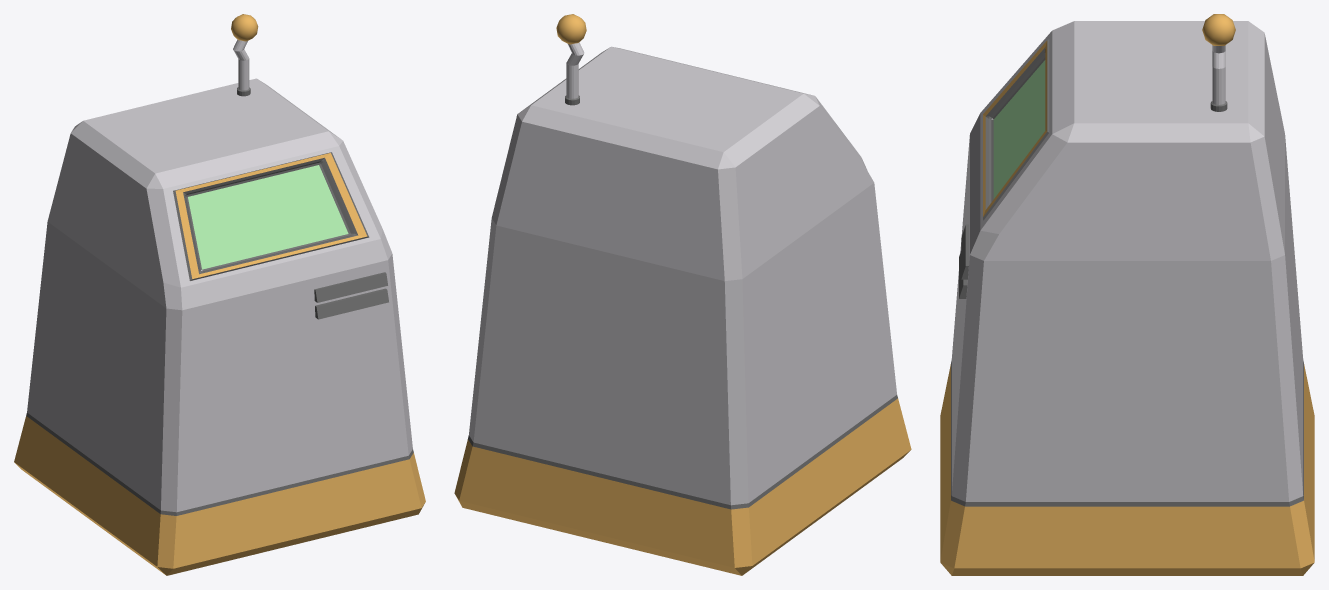
The model's file is botKitty.fbx.
3 views of the same model, side by side, from view 1: azimuth 30°, elevation 25°; view 2: azimuth 150°, elevation 25°; view 3: azimuth 270°, elevation 25° (orthographic). The views are drawn at different scales.
Parts seen in each view (by area): view 1: Bot - Kitty; view 2: Bot - Kitty; view 3: Bot - Kitty.
Boxes of the visible parts, bbox=[...] form: Bot - Kitty: bbox=[14, 14, 425, 575]; Bot - Kitty: bbox=[454, 14, 911, 575]; Bot - Kitty: bbox=[940, 14, 1314, 575].
Bounding box in the file's own units: 82.85 × 82.85 × 128.
